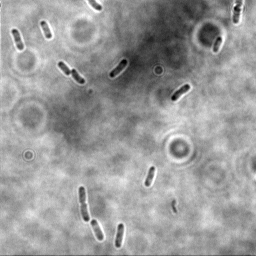Dividing: (56, 61, 86, 86), (77, 186, 89, 222)
Rod: (108, 58, 129, 79), (169, 83, 191, 103), (89, 219, 105, 243), (10, 28, 25, 52), (143, 165, 156, 189), (114, 222, 125, 249), (39, 20, 53, 40), (211, 36, 223, 54)
